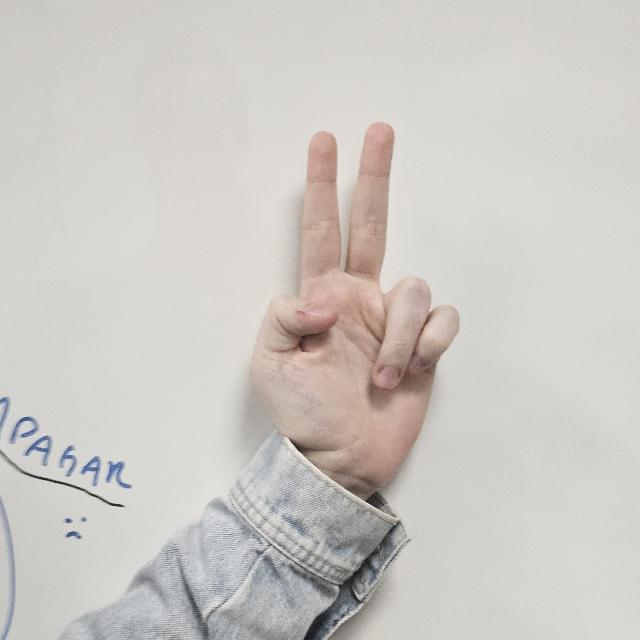Triangulo: (251, 118, 465, 494)
